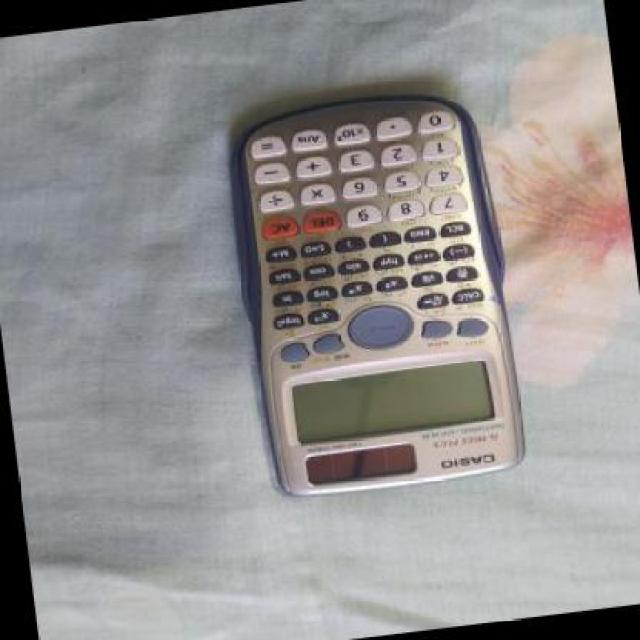Calculator: (214, 70, 541, 512)
